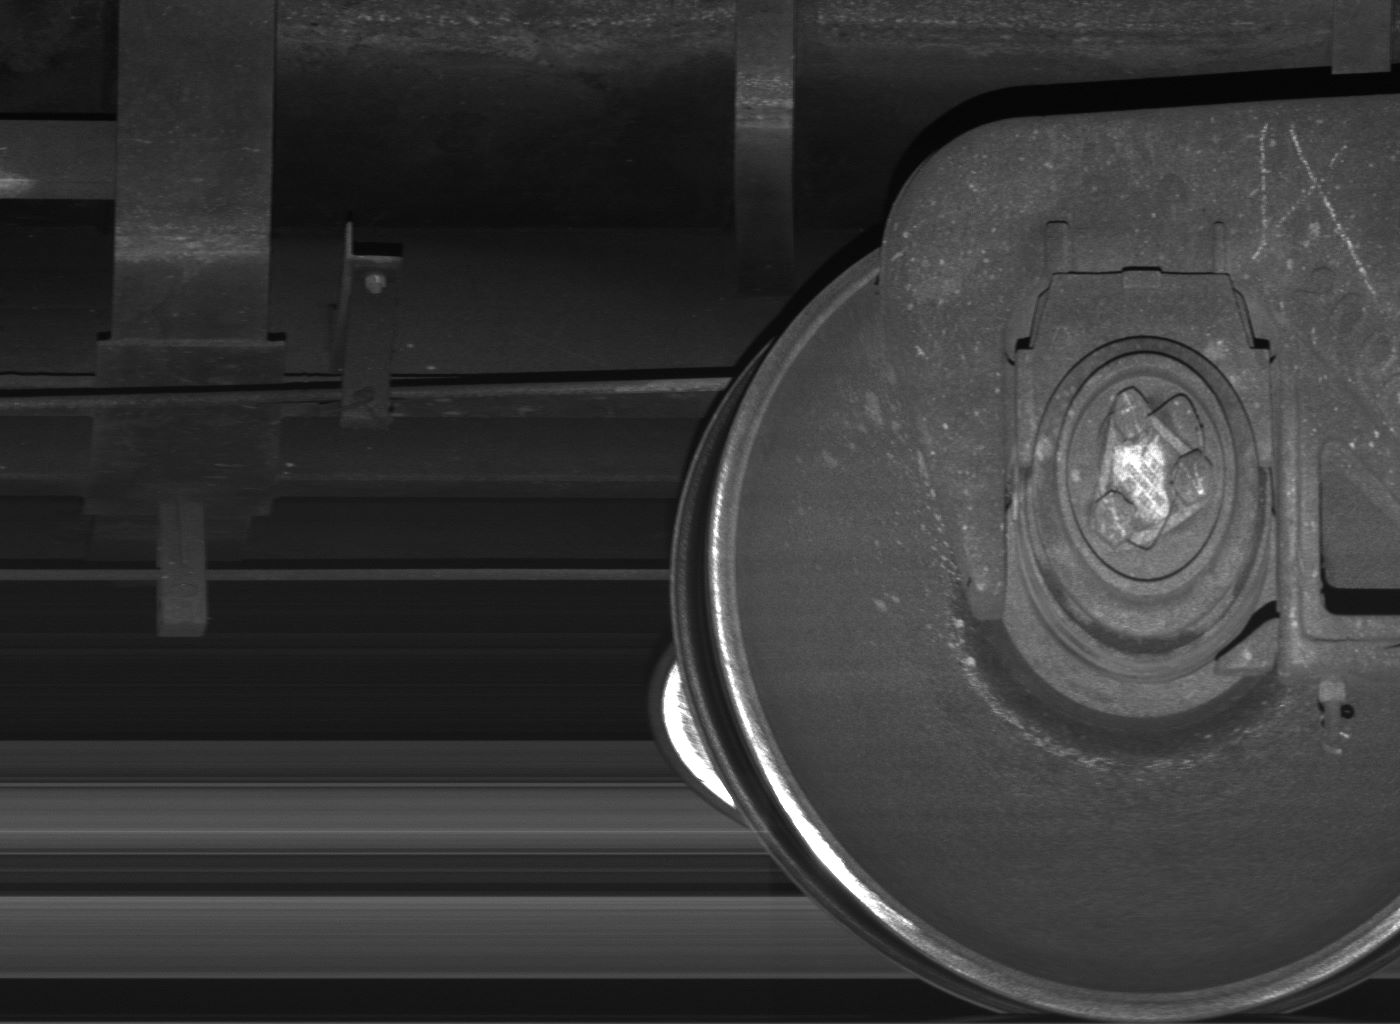normal: (341, 221, 398, 430), (155, 501, 210, 637)
